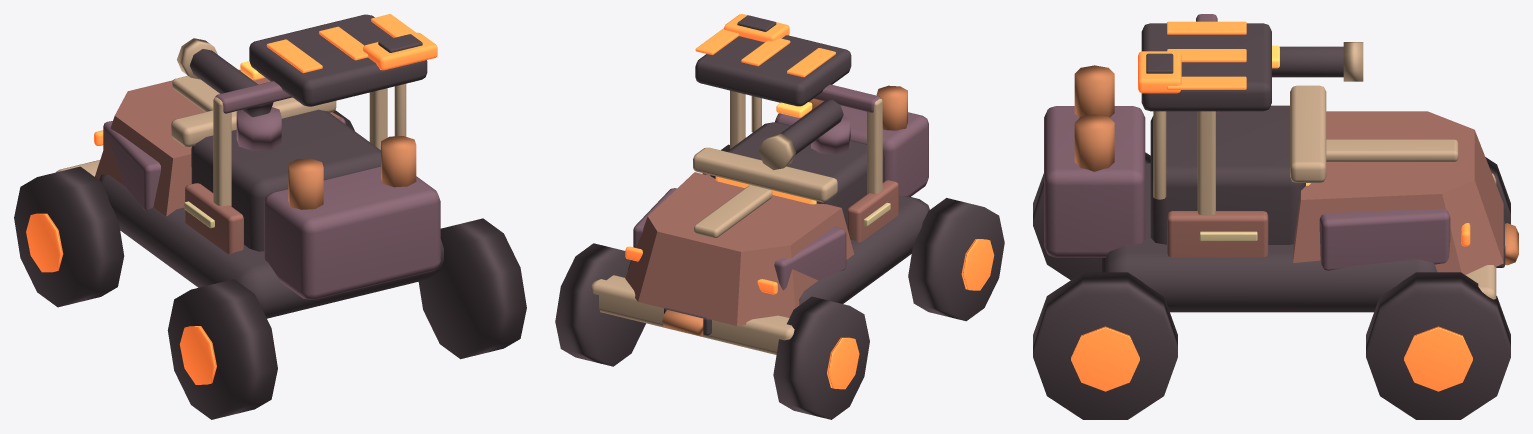
The model's file is vesper-recon-buggy.glb.
3 renders of one model, left to right at view 1: azimuth 30°, elevation 25°; view 2: azimuth 150°, elevation 25°; view 3: azimuth 270°, elevation 25°, orthographic. The views are drawn at different scales.
Visible parts, largest first — view 1: All-terrain tire, Angled nose cheek, Vesper wedge nose, Raised center armor keel, Wheel hub, Exhaust stack; view 2: All-terrain tire, Vesper wedge nose, Raised center armor keel, Angled nose cheek, Wheel hub, Exhaust stack, Armored windshield; view 3: All-terrain tire, Vesper wedge nose, Angled nose cheek, Raised center armor keel, Wheel hub, Exhaust stack, Door hazard slash.
Part boxes in pixels (x1,y1,x2,y2): All-terrain tire: (14,14,526,419); Angled nose cheek: (103,81,440,299); Vesper wedge nose: (95,69,341,254); Raised center armor keel: (56,38,406,206); Wheel hub: (26,14,437,384); Exhaust stack: (288,136,416,209); All-terrain tire: (555,15,1004,419); Vesper wedge nose: (625,172,898,325); Raised center armor keel: (590,90,882,354); Angled nose cheek: (633,84,928,290); Wheel hub: (625,14,994,389); Exhaust stack: (662,85,907,335); Armored windshield: (715,102,816,204); All-terrain tire: (1033,23,1510,419); Vesper wedge nose: (1167,111,1503,274); Angled nose cheek: (1044,14,1450,270); Raised center armor keel: (1153,42,1496,299); Wheel hub: (1071,21,1472,391); Exhaust stack: (1074,65,1518,265); Door hazard slash: (1199,231,1257,241).
Bounding box in the file's own units: 1.05 × 0.9822 × 1.34.
